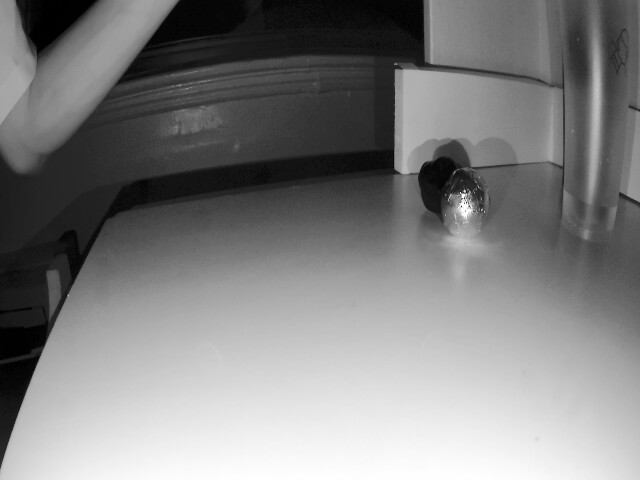black: (445, 163, 486, 242)
silver: (414, 150, 452, 217)
